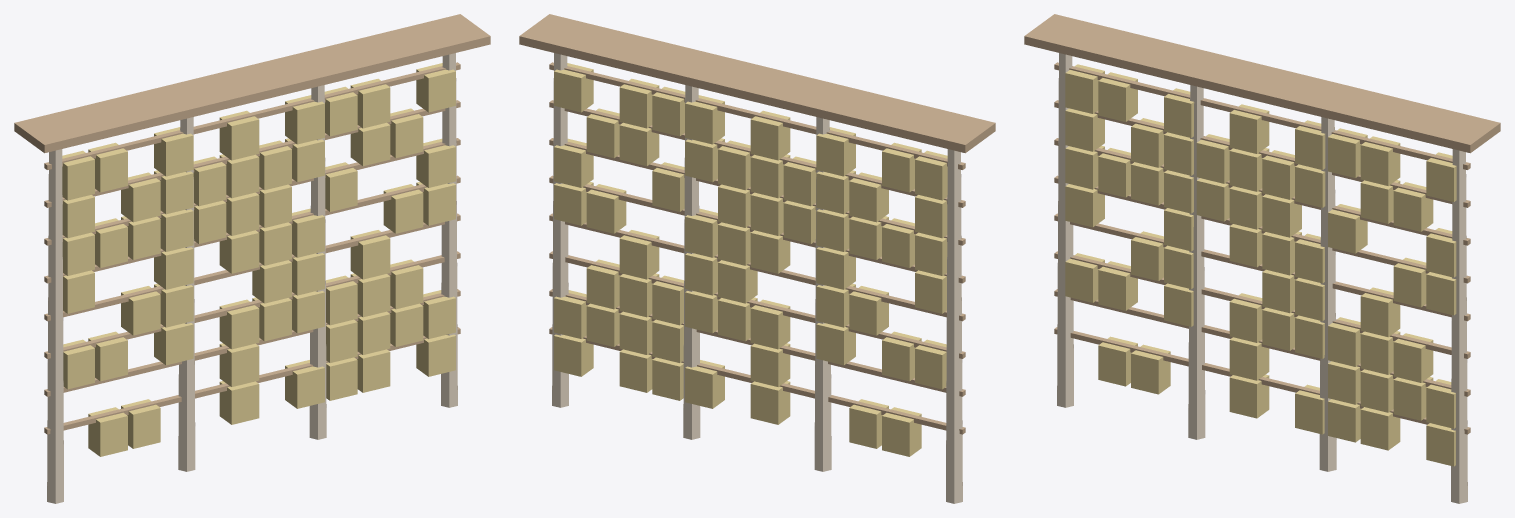
The picture shows the model from 3 angles, left to right: view 1: azimuth 30°, elevation 25°; view 2: azimuth 150°, elevation 25°; view 3: azimuth 330°, elevation 25°; orthographic projection.
Parts seen in each view (by area): view 1: WB_barley_6; view 2: WB_barley_6; view 3: WB_barley_6.
Part boxes in pixels (x1,y1,x2,y2): WB_barley_6: [14, 14, 490, 503]; WB_barley_6: [519, 14, 995, 503]; WB_barley_6: [1024, 14, 1500, 503].
Size of the model in its own units: 6.8 by 5.42 by 0.8.
